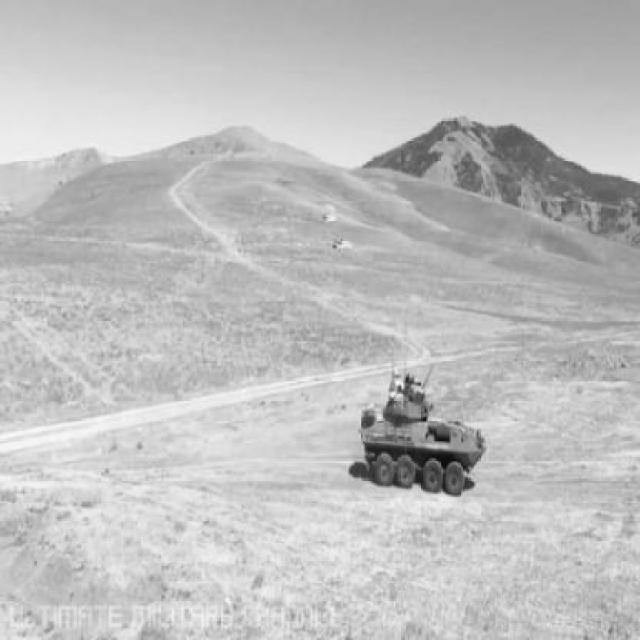Vehicle: (358, 394, 487, 494)
